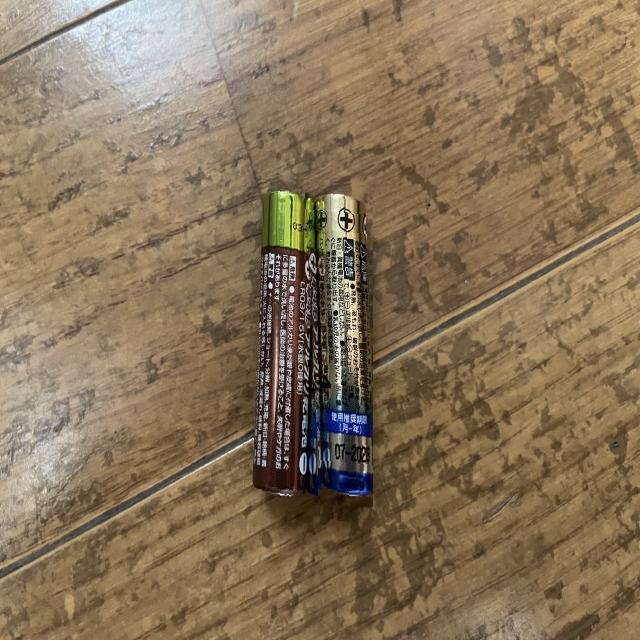battery: (248, 172, 318, 497), (304, 180, 373, 507)
